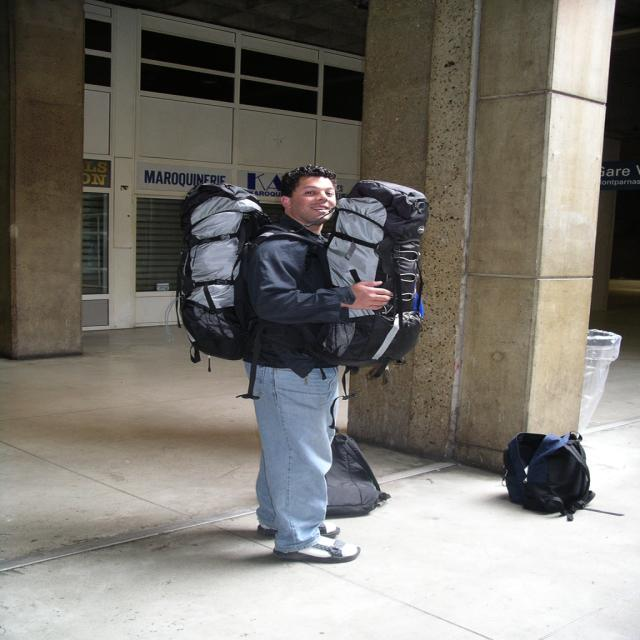backpack: (308, 183, 428, 371), (171, 185, 257, 357), (275, 427, 391, 515), (506, 423, 592, 519)
